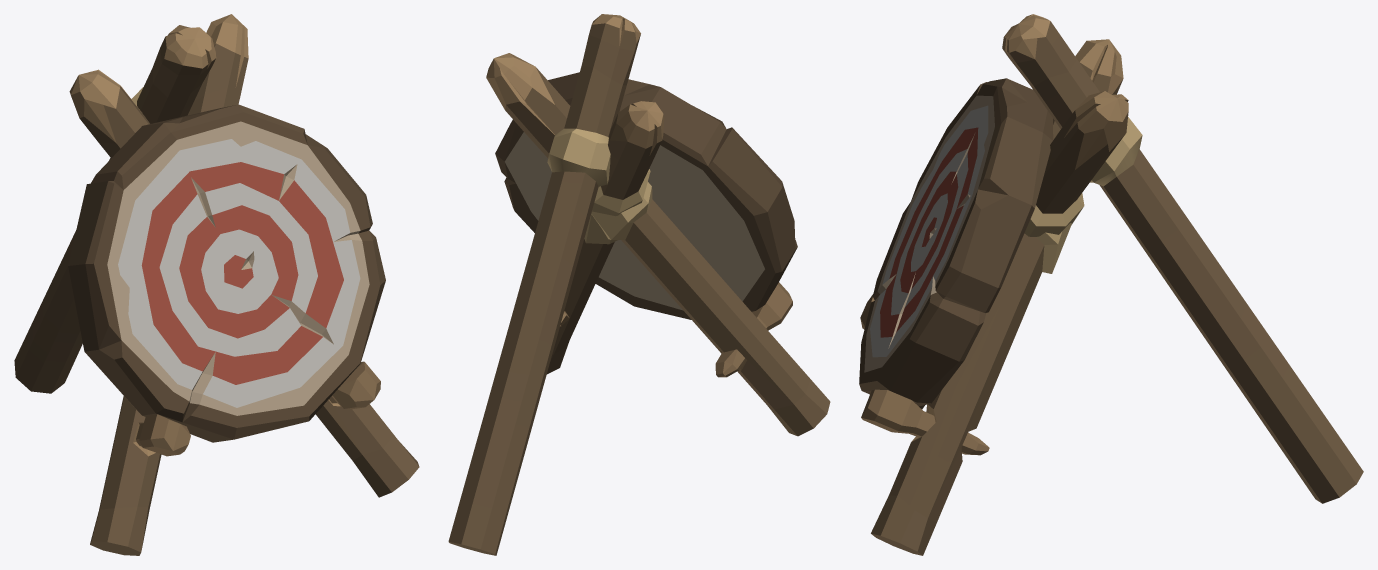
The model's file is castle_target.gltf.
3 views of the same model, side by side, from view 1: azimuth 30°, elevation 25°; view 2: azimuth 150°, elevation 25°; view 3: azimuth 270°, elevation 25° (orthographic). The views are drawn at different scales.
Visible parts, largest first — view 1: castle_target; view 2: castle_target; view 3: castle_target.
Part boxes in pixels (x1=…): castle_target: x1=14, y1=14, x2=419, y2=555; castle_target: x1=448, y1=14, x2=830, y2=555; castle_target: x1=859, y1=14, x2=1363, y2=555.
Size of the model in its own units: 0.736 by 1 by 0.9541.
Materials: 1 (1 with a texture image).
